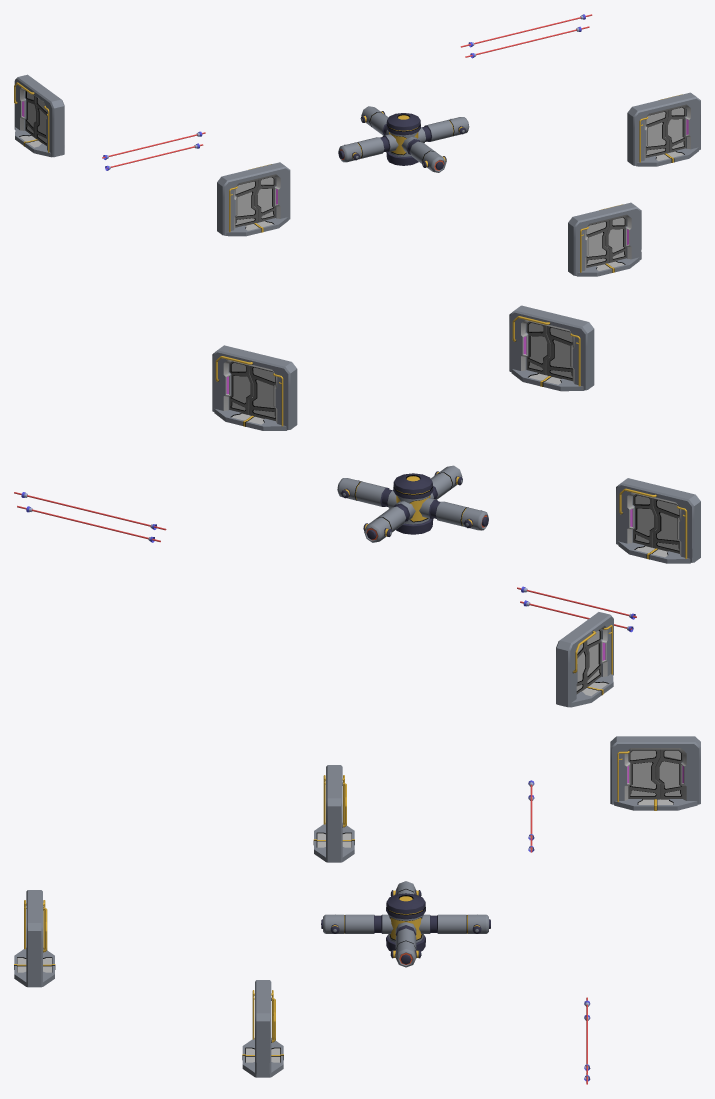
The picture shows the model from 3 angles, top to bottom: view 1: azimuth 30°, elevation 25°; view 2: azimuth 150°, elevation 25°; view 3: azimuth 270°, elevation 25°; orthographic projection. The views are drawn at different scales.
Visible parts, largest first — view 1: Base (×4), Right (×4), pCylinder14 (×4), Left (×4), Base5 (×4), pCylinder13; view 2: Base (×4), Right (×4), pCylinder14 (×4), Left (×3), Base5 (×4), pCylinder13; view 3: Base (×4), pCylinder14 (×3), Base5 (×4), Right, pCylinder13, Left.
Part boxes in pixels (x1,y1,x2,y2): Base (×4): [14, 74, 700, 275]; Right (×4): [35, 96, 668, 267]; pCylinder14 (×4): [338, 106, 469, 172]; Left (×4): [25, 90, 686, 262]; Base5 (×4): [15, 127, 698, 276]; pCylinder13: [386, 113, 420, 165]; Base (×4): [212, 305, 700, 707]; Right (×4): [249, 326, 679, 688]; pCylinder14 (×4): [337, 465, 488, 542]; Left (×3): [229, 321, 657, 547]; Base5 (×4): [214, 369, 691, 707]; pCylinder13: [393, 473, 433, 534]; Base (×4): [26, 736, 700, 1077]; pCylinder14 (×3): [321, 914, 490, 967]; Base5 (×4): [14, 799, 697, 1076]; Right: [628, 749, 660, 799]; pCylinder13: [386, 893, 425, 951]; Left: [655, 749, 683, 799].
Size of the model in its own units: 433 by 42.53 by 414.
